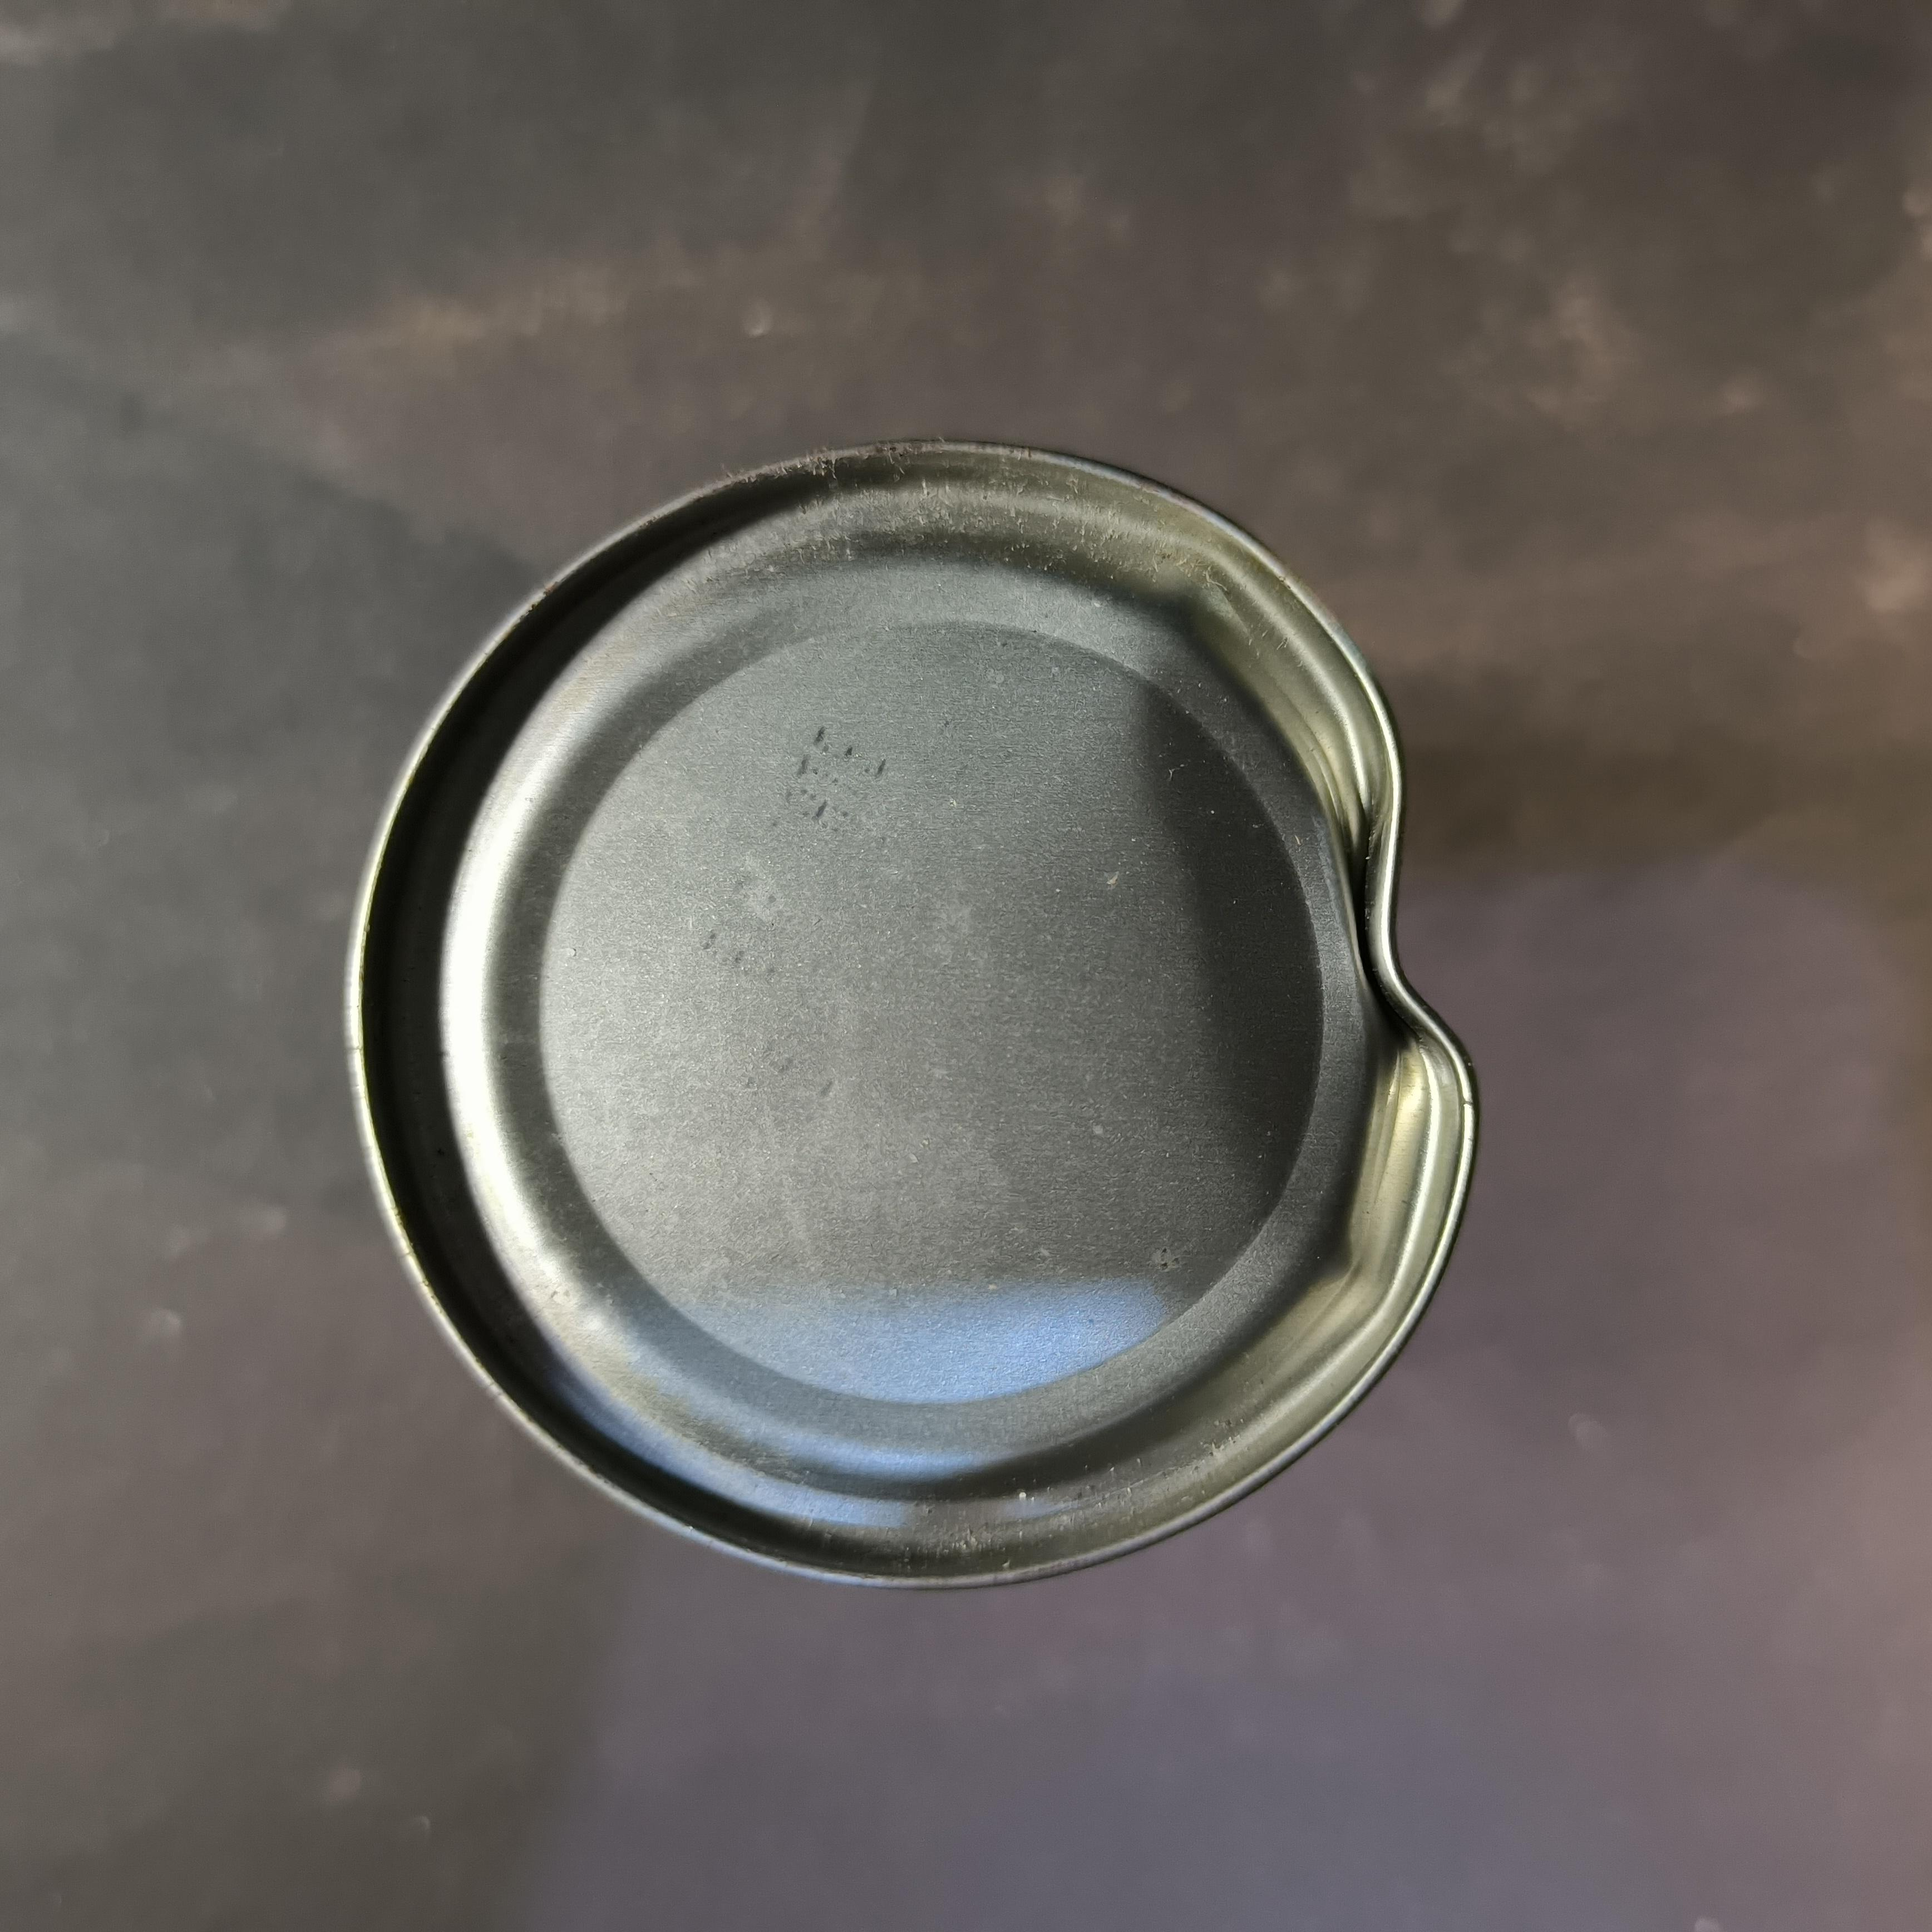Critical Defect: (338, 433, 1486, 1594)
